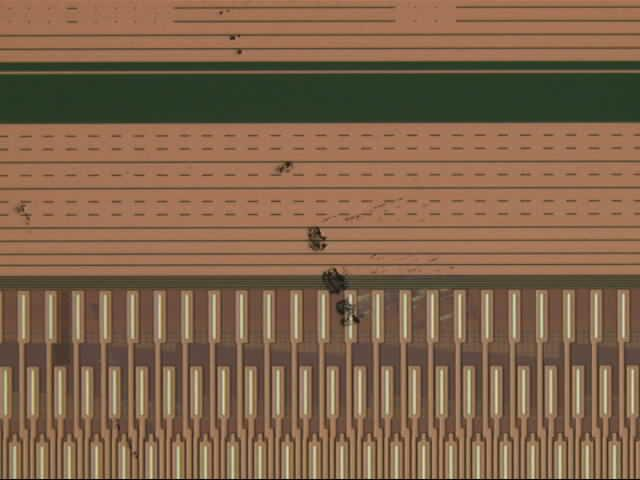SCRATCH: (205, 1, 476, 344)
